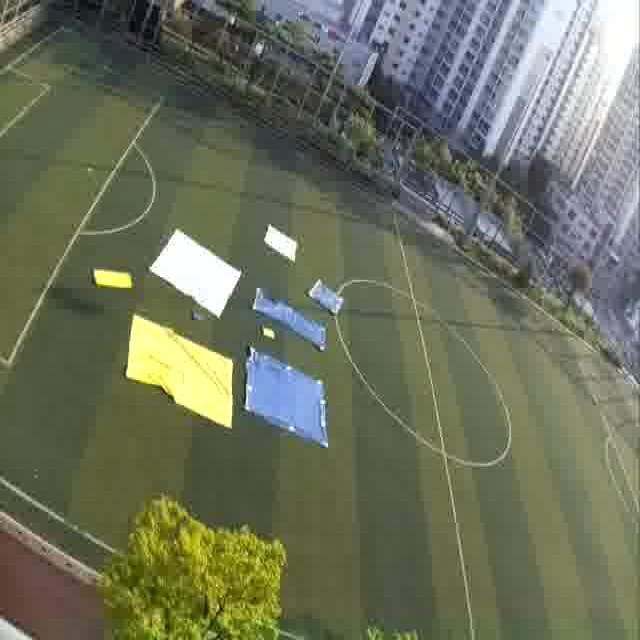danger: (250, 361, 328, 438), (256, 288, 299, 323), (309, 279, 343, 312)
safety: (161, 241, 238, 301), (263, 224, 299, 264)
warning: (123, 323, 233, 416), (92, 265, 134, 291)
